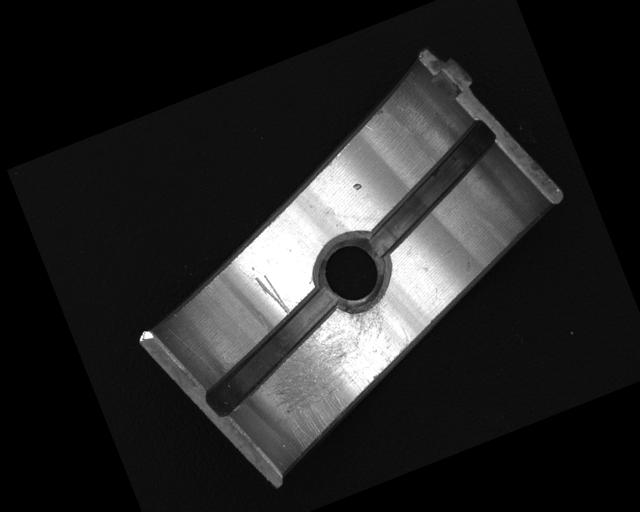bruise: (351, 181, 365, 193)
gap: (340, 119, 519, 260), (182, 284, 358, 420)
hole: (302, 225, 401, 322)
nick: (253, 269, 290, 321)
scratch: (253, 294, 426, 454)
